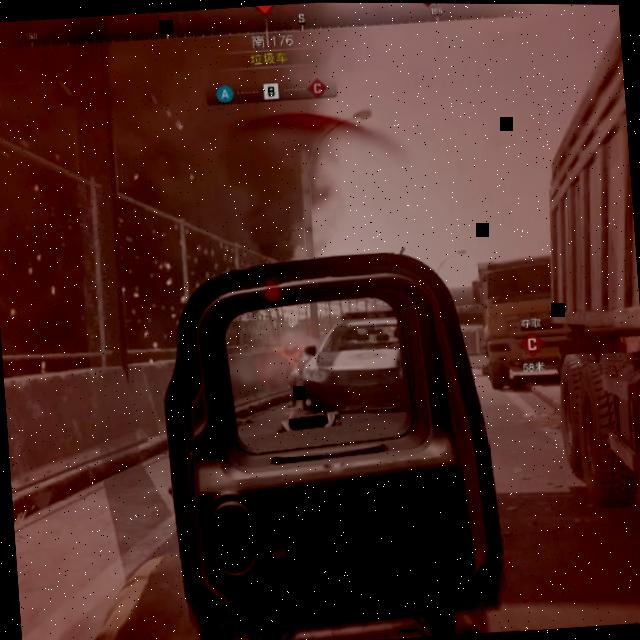MW2_body: (286, 339, 316, 403)
